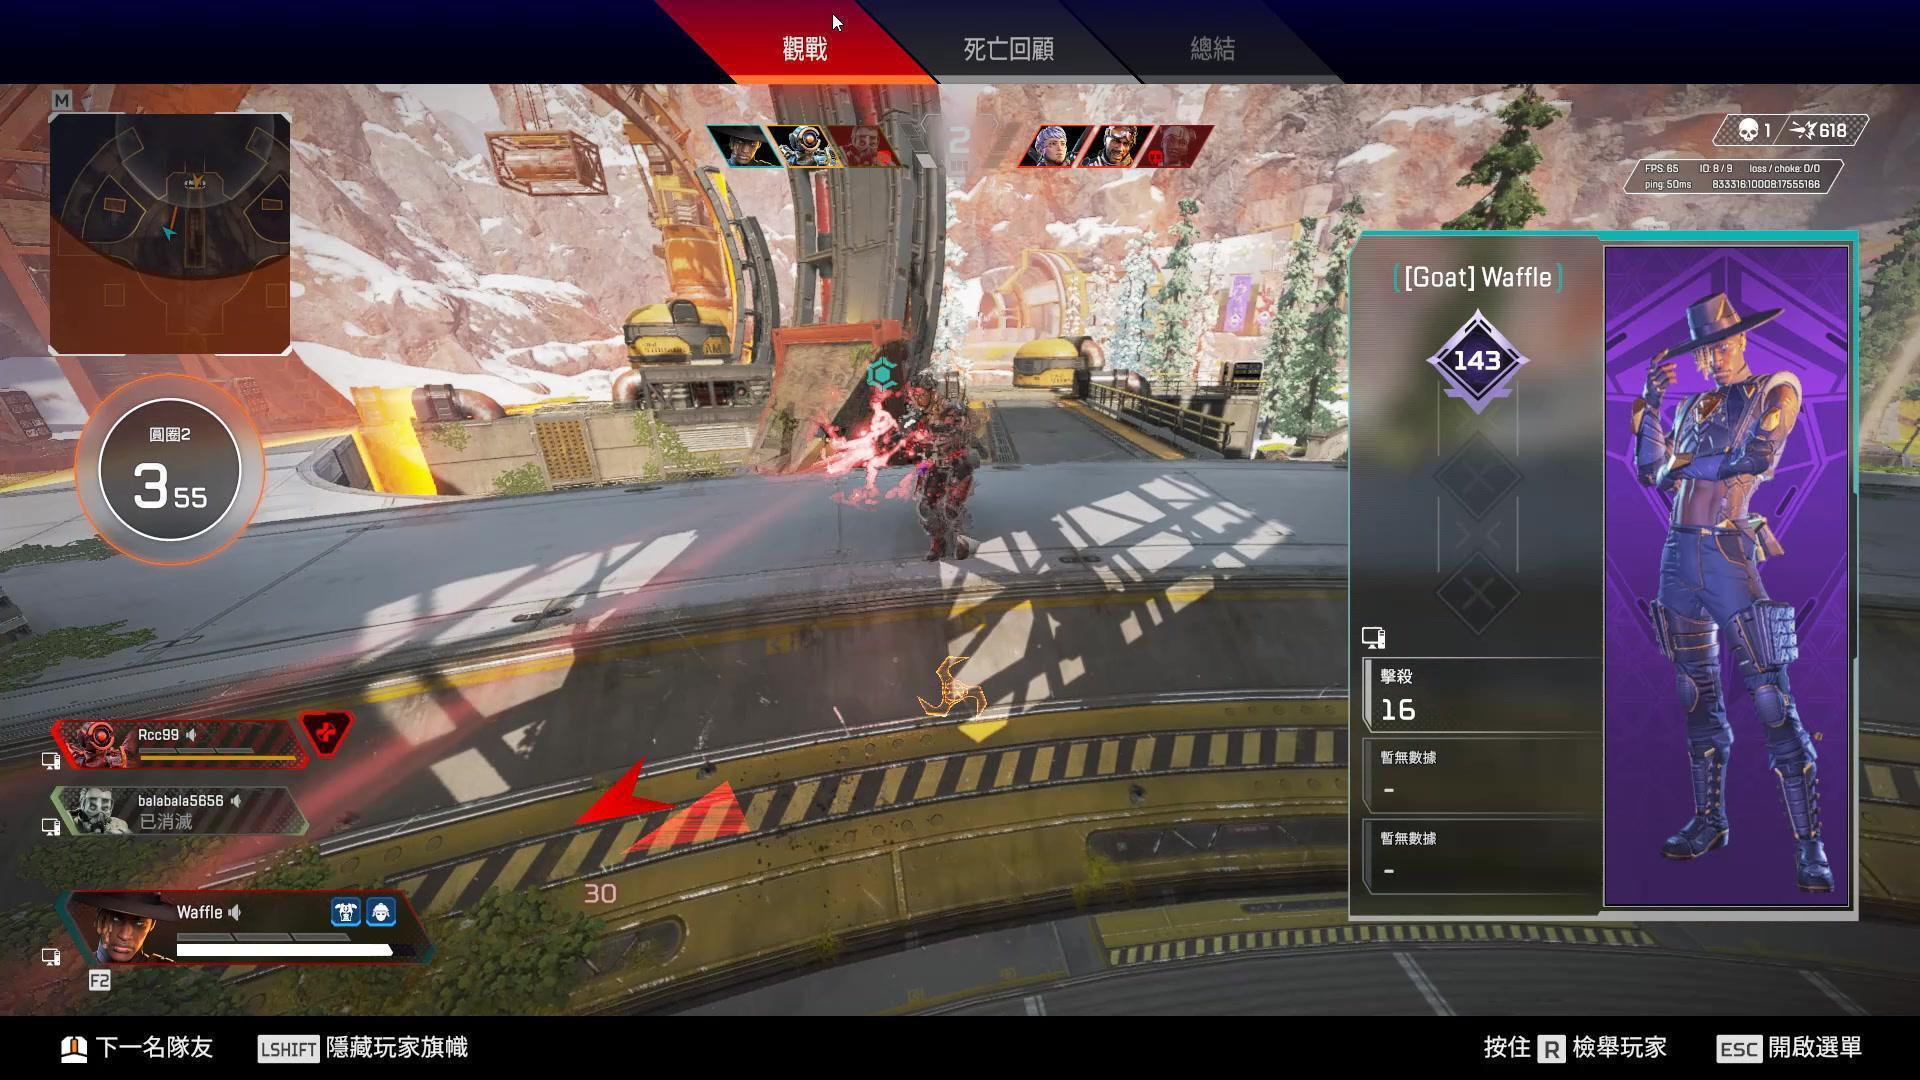avatar: (899, 375, 977, 563)
